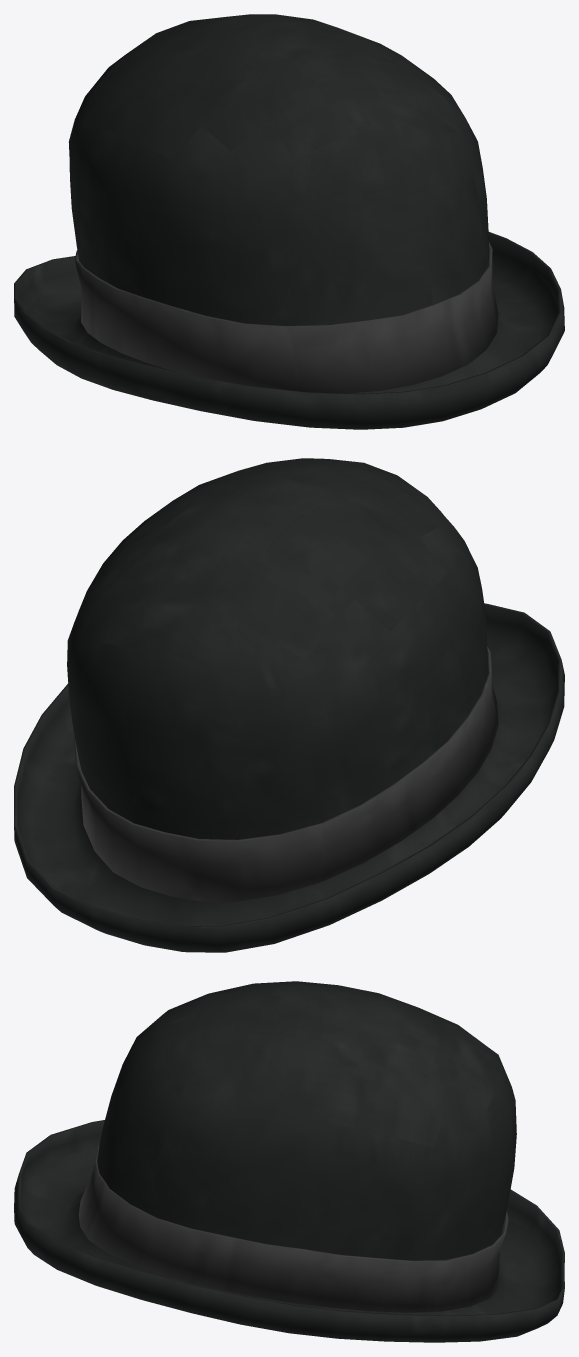
Rendered from culturalibre-cl-bowler-hat.glb.
The picture shows the model from 3 angles, top to bottom: view 1: azimuth 30°, elevation 25°; view 2: azimuth 150°, elevation 25°; view 3: azimuth 270°, elevation 25°; orthographic projection. The views are drawn at different scales.
Parts seen in each view (by area): view 1: Human.culturalibre_cl_bowler_hat; view 2: Human.culturalibre_cl_bowler_hat; view 3: Human.culturalibre_cl_bowler_hat.
Part boxes in pixels (left/top/right/bottom): Human.culturalibre_cl_bowler_hat: left=14, top=14, right=564, bottom=429; Human.culturalibre_cl_bowler_hat: left=14, top=458, right=564, bottom=952; Human.culturalibre_cl_bowler_hat: left=14, top=981, right=564, bottom=1342.
Bounding box in the file's own units: 0.2049 × 0.1567 × 0.256.
Materials: 1 (1 with a texture image).
